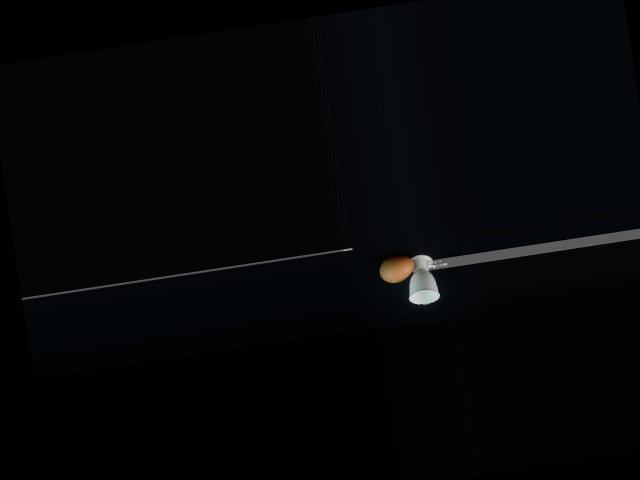egg: (378, 254, 416, 284)
